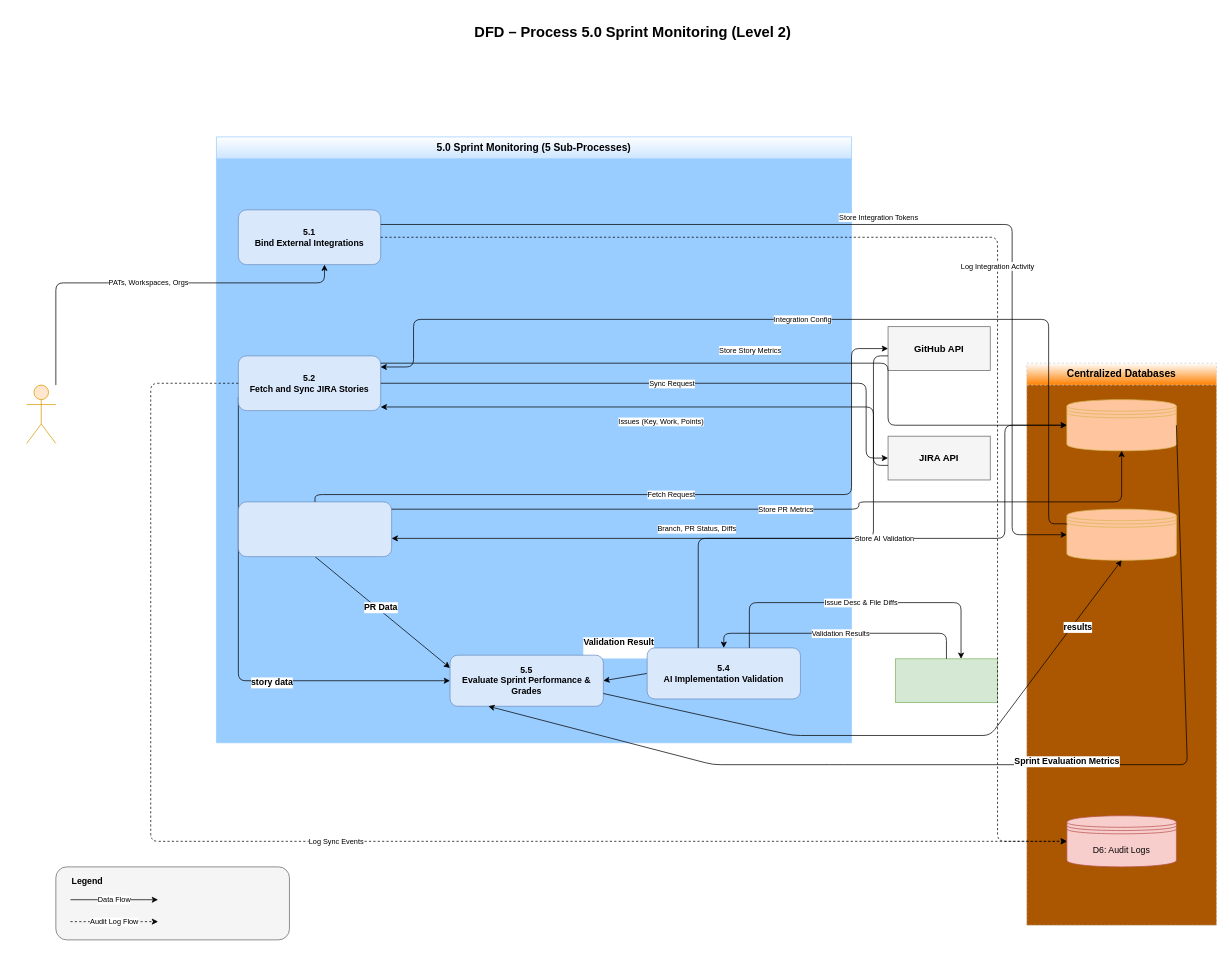
The diagram is 1229 pixels wide and 953 high, and some of its shapes have lost their labels. Each missing label, with the centre of its shape:
"5.3 Verify GitHub PRs and Merges" belongs at (x=315, y=529).
"AI Service" belongs at (x=946, y=680).
"D2: Group DB" belongs at (x=1121, y=534).
"D4: Sprint Sync Data" belongs at (x=1121, y=425).
"Team Leader" belongs at (x=41, y=413).
